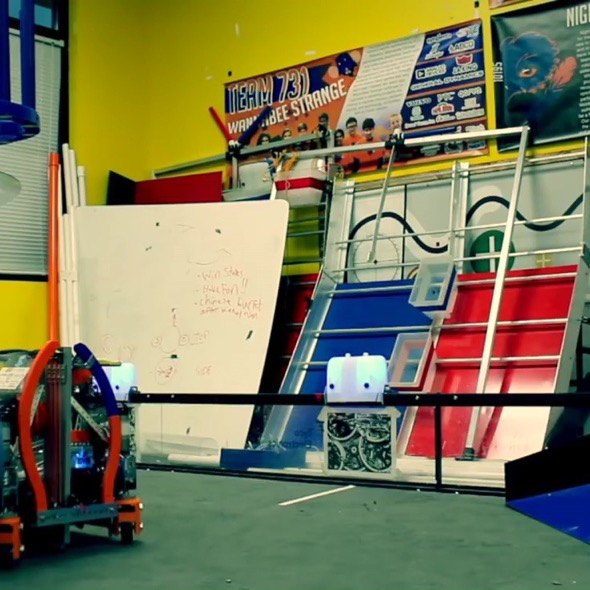robot: (0, 337, 148, 571)
